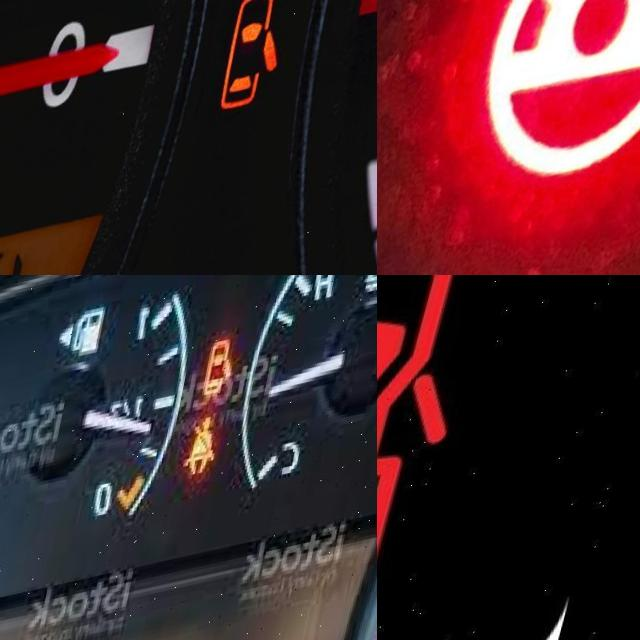Electronic Power Steering: (478, 0, 640, 206)
Seat Belt: (194, 423, 236, 496)
